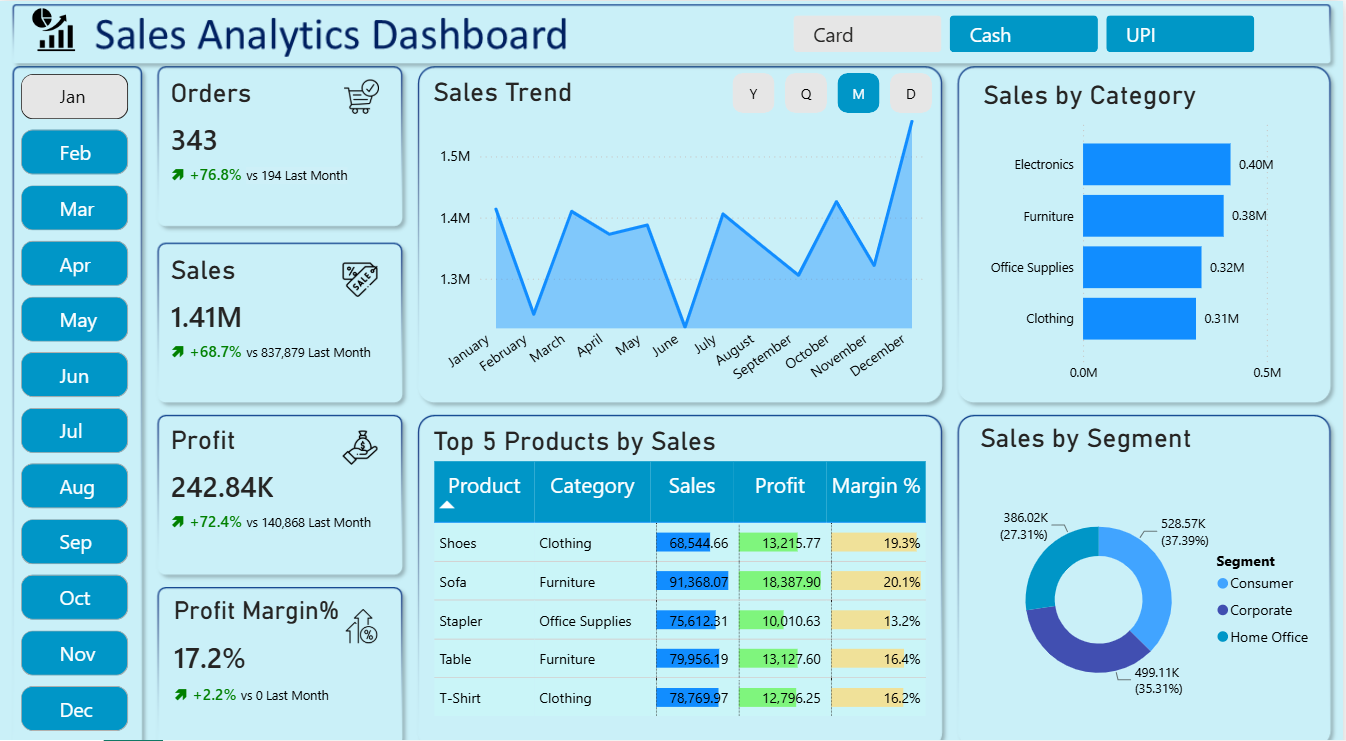

This screenshot's page, from the dashboard's own definition file:
{"tool":"powerbi","page":{"name":"Page 1","canvas":[1280,720],"ordinal":0},"visuals":[{"type":"cardVisual","title":"Profit","fields":{"Data":["Sales_Data.Total profit"]},"box":[158,403,219,133],"z":0},{"type":"cardVisual","title":"Sales","fields":{"Data":["Sales_Data.Total sales"]},"box":[158,242,219,133],"z":1000},{"type":"cardVisual","title":"Orders","fields":{"Data":["Sales_Data.Total orders"]},"box":[158,73,219,133],"z":2000},{"type":"cardVisual","title":"Profit Margin%","fields":{"Data":["Sales_Data.Profit Margin %"]},"box":[162,565,209,139],"z":3000},{"type":"advancedSlicerVisual","fields":{"Values":["Date Table.Month"]},"box":[16,64,112,640],"z":4000},{"type":"tableEx","title":"Top 5 Products by Sales","fields":{"Values":["Sales_Data.Product","Sales_Data.Category","Sum(Sales_Data.Sales)","Sum(Sales_Data.Profit)","Sales_Data.Profit Margin %"]},"box":[409,404,480,300],"z":5000},{"type":"donutChart","title":"Sales by Segment","fields":{"Category":["Sales_Data.Segment"],"Y":["Sum(Sales_Data.Sales)"]},"box":[921,402,340,297],"z":6000},{"type":"barChart","title":"Sales by Category","fields":{"Category":["Sales_Data.Category"],"Y":["Sum(Sales_Data.Sales)"]},"box":[921,72,340,301],"z":7000},{"type":"image","box":[27,5,50,43],"z":8000},{"type":"image","box":[327,245,33,39],"z":9000},{"type":"image","box":[328,72,33,39],"z":10000},{"type":"image","box":[327,405,33,39],"z":11000},{"type":"image","box":[328,576,33,39],"z":12000},{"type":"advancedSlicerVisual","fields":{"Values":["Sales_Data.Payment_Mode"]},"box":[752,9,450,45],"z":13000},{"type":"lineChart","title":"Sales Trend","fields":{"Category":["Date Table.Date.Variation.Date Hierarchy.Year","Date Table.Date.Variation.Date Hierarchy.Quarter","Date Table.Date.Variation.Date Hierarchy.Month","Date Table.Date.Variation.Date Hierarchy.Day"],"Y":["Sum(Sales_Data.Sales)"]},"box":[408,72,480,312],"z":14000},{"type":"bookmarkNavigator","box":[699,68,190,38],"z":15000}]}

Visuals, with their boxes in screenshot pixels (x1, y1, x2, y2), scaled from the page's 1280x720 canvas onto the 1346x741 screenshot:
"Profit" cardVisual: (166,415,396,552)
"Sales" cardVisual: (166,249,396,386)
"Orders" cardVisual: (166,75,396,212)
"Profit Margin%" cardVisual: (170,581,390,725)
advancedSlicerVisual - Date Table.Month: (17,66,135,725)
"Top 5 Products by Sales" tableEx: (430,416,935,725)
"Sales by Segment" donutChart: (968,414,1326,719)
"Sales by Category" barChart: (968,74,1326,384)
image: (28,5,81,49)
image: (344,252,379,292)
image: (345,74,380,114)
image: (344,417,379,457)
image: (345,593,380,633)
advancedSlicerVisual - Sales_Data.Payment_Mode: (791,9,1264,56)
"Sales Trend" lineChart: (429,74,934,395)
bookmarkNavigator: (735,70,935,109)
